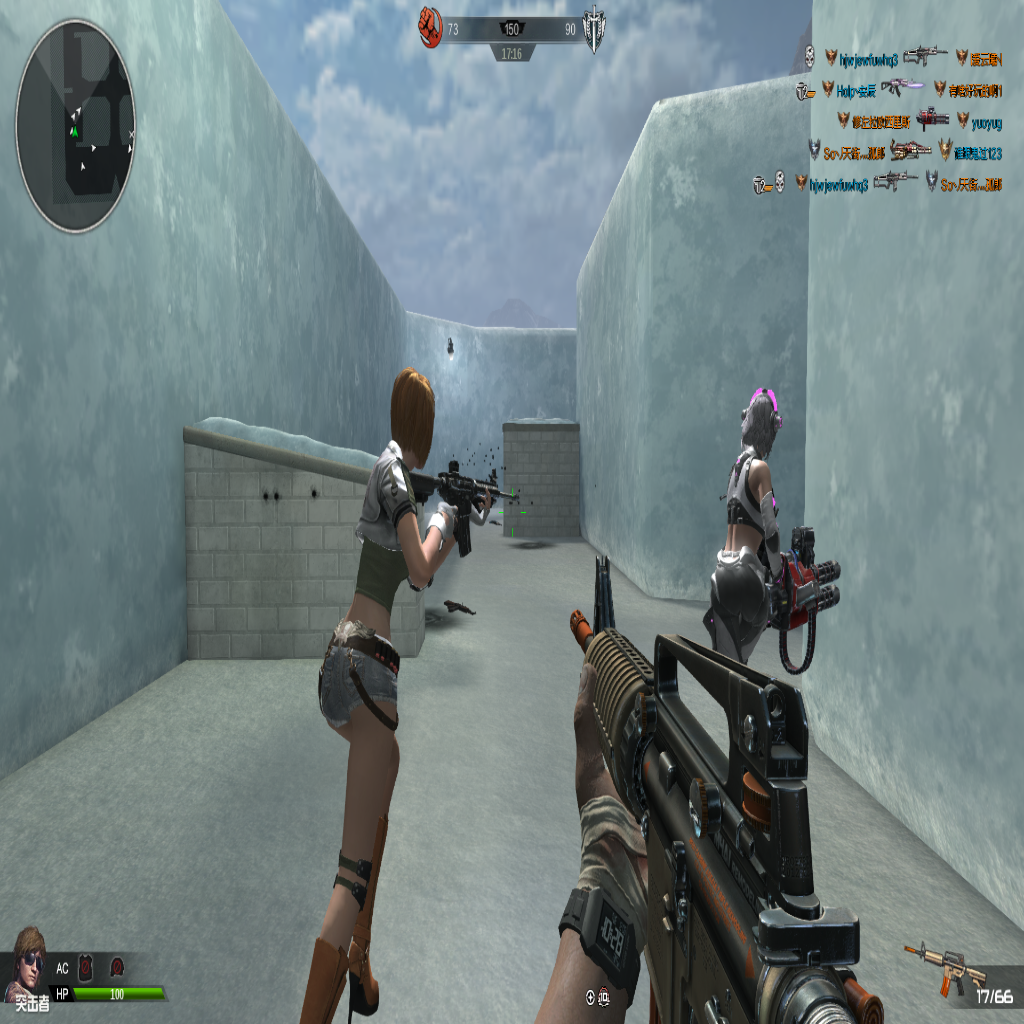tt: (717, 394, 783, 594)
